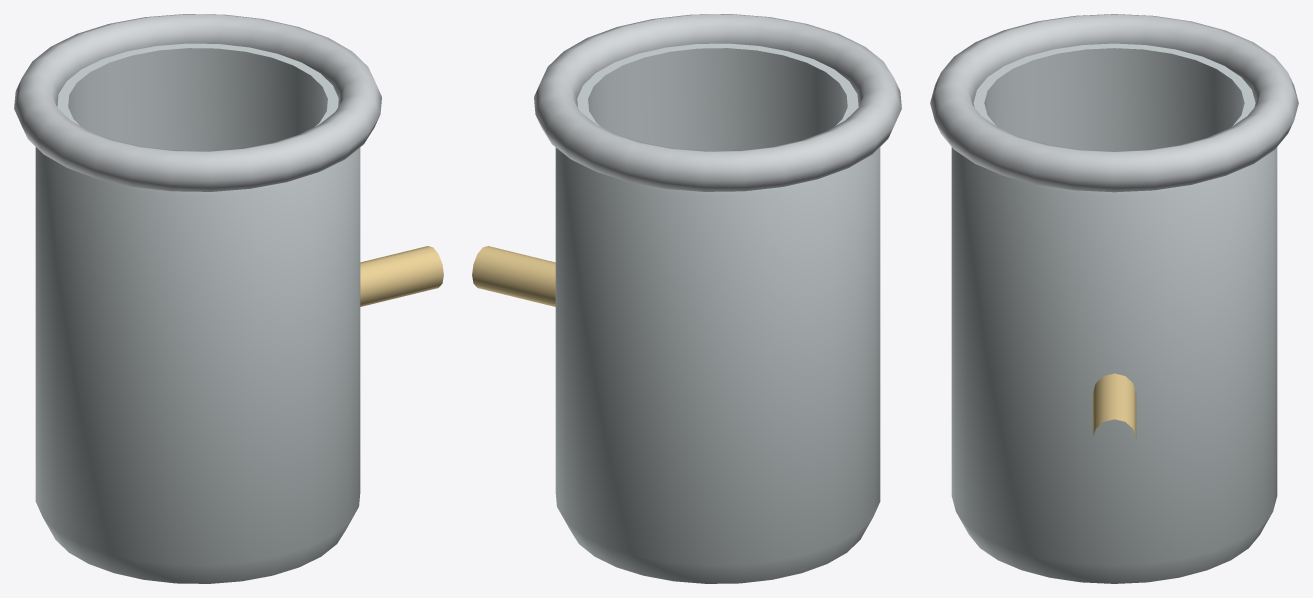
The model's file is geotechnical-soil-testing-laboratory-membrane-stretche-026dfbaa__39038.glb.
The picture shows the model from 3 angles, left to right: view 1: azimuth 30°, elevation 25°; view 2: azimuth 150°, elevation 25°; view 3: azimuth 270°, elevation 25°; orthographic projection.
Parts seen in each view (by area): view 1: membrane-stretcher-sleeve; view 2: membrane-stretcher-sleeve; view 3: membrane-stretcher-sleeve.
Boxes of the visible parts, left/top/right/bottom form: membrane-stretcher-sleeve: left=14, top=14, right=443, bottom=583; membrane-stretcher-sleeve: left=472, top=14, right=901, bottom=583; membrane-stretcher-sleeve: left=930, top=14, right=1298, bottom=583.
Bounding box in the file's own units: 0.168 × 0.178 × 0.136.
